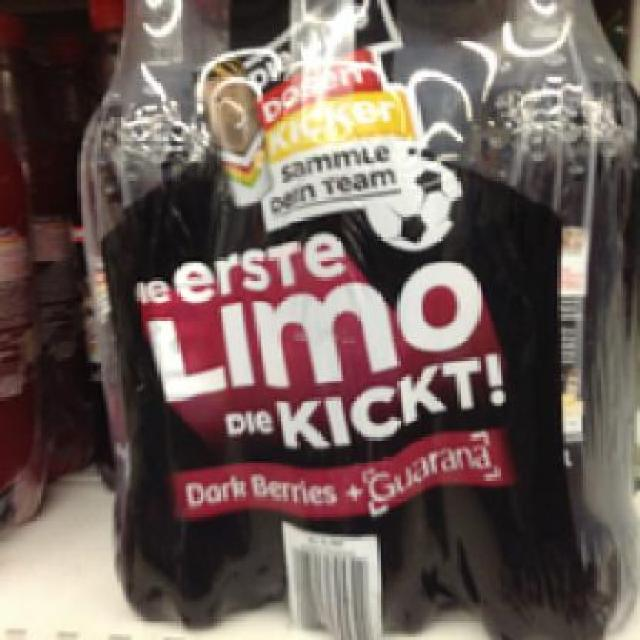Soda: (250, 0, 455, 632), (434, 0, 632, 637), (77, 0, 274, 626)
